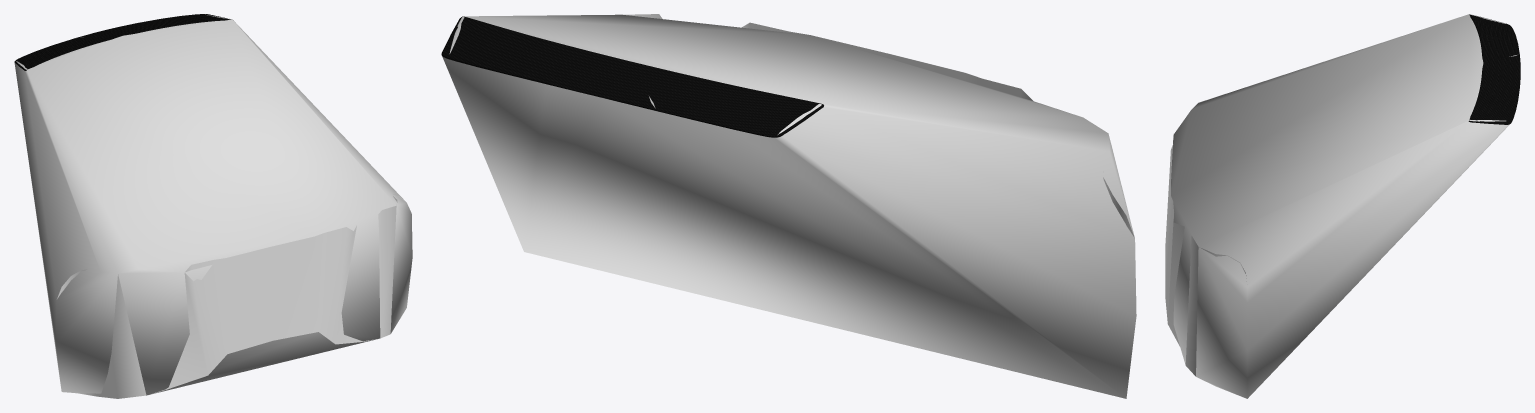
3 renders of one model, left to right at view 1: azimuth 30°, elevation 25°; view 2: azimuth 150°, elevation 25°; view 3: azimuth 270°, elevation 25°, orthographic. The views are drawn at different scales.
Parts seen in each view (by area): view 1: grille_eclipse_tail_01_col, grille_eclipse_tail_01; view 2: grille_eclipse_tail_01_col, grille_eclipse_tail_01; view 3: grille_eclipse_tail_01_col, grille_eclipse_tail_01.
Part boxes in pixels (x1,y1,x2,y2): grille_eclipse_tail_01_col: (14,14,412,395); grille_eclipse_tail_01: (14,14,404,398); grille_eclipse_tail_01_col: (442,14,1136,398); grille_eclipse_tail_01: (441,14,1134,237); grille_eclipse_tail_01_col: (1171,14,1516,398); grille_eclipse_tail_01: (1165,14,1520,376).
Bounding box in the file's own units: 1.17 × 0.7374 × 0.9559.
2 materials, 2 textured.
